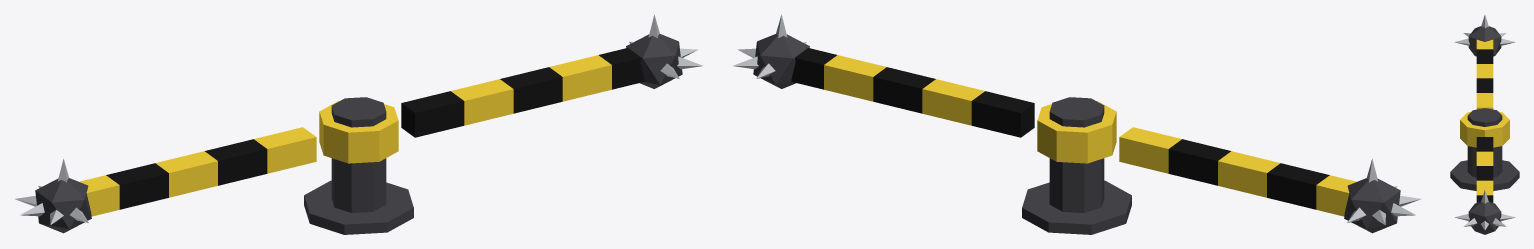
Rendered from spinner.glb.
The picture shows the model from 3 angles, left to right: view 1: azimuth 30°, elevation 25°; view 2: azimuth 150°, elevation 25°; view 3: azimuth 270°, elevation 25°; orthographic projection. The views are drawn at different scales.
Parts seen in each view (by area): view 1: SpinnerMesh; view 2: SpinnerMesh; view 3: SpinnerMesh.
Part boxes in pixels (x1,y1,x2,y2): SpinnerMesh: [15, 14, 702, 234]; SpinnerMesh: [733, 14, 1420, 234]; SpinnerMesh: [1450, 15, 1519, 234].
Size of the model in its own units: 6.9 by 1.22 by 1.
